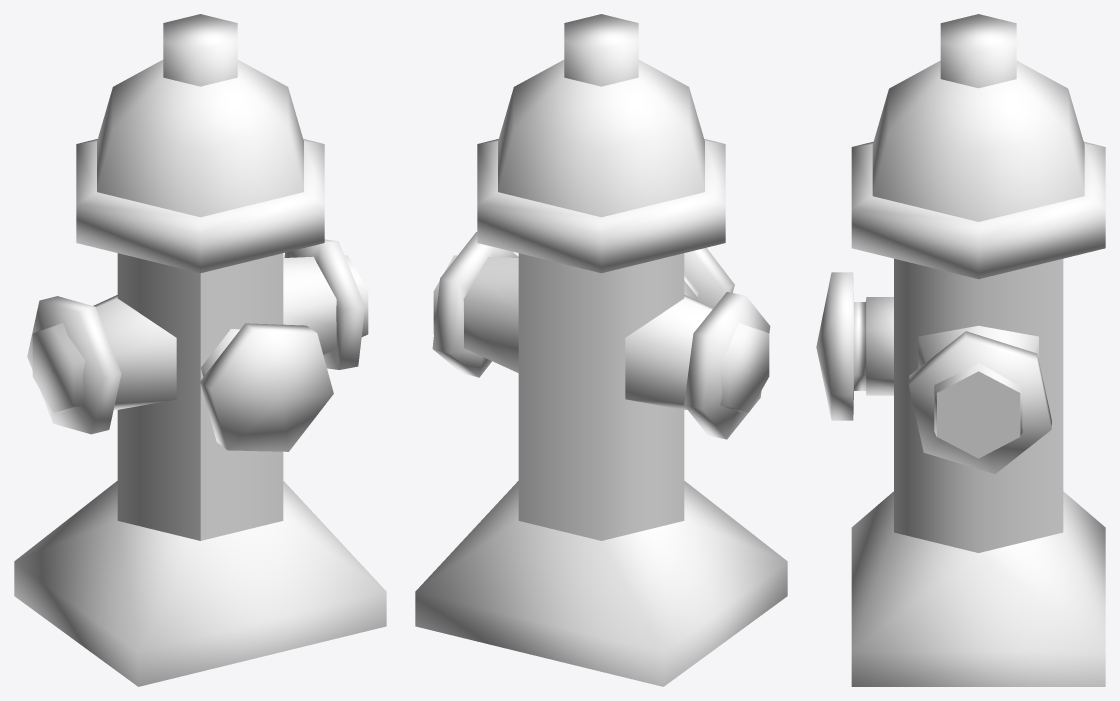
The model's file is hydrant.glb.
3 renders of one model, left to right at view 1: azimuth 30°, elevation 25°; view 2: azimuth 150°, elevation 25°; view 3: azimuth 270°, elevation 25°, orthographic. The views are drawn at different scales.
Visible parts, largest first — view 1: hydrant; view 2: hydrant; view 3: hydrant.
Part boxes in pixels (<box>): hydrant: <box>14,14,386,686</box>; hydrant: <box>415,14,787,686</box>; hydrant: <box>816,14,1105,686</box>.
Bounding box in the file's own units: 0.5352 × 1 × 0.4438.
1 material, 1 textured.
